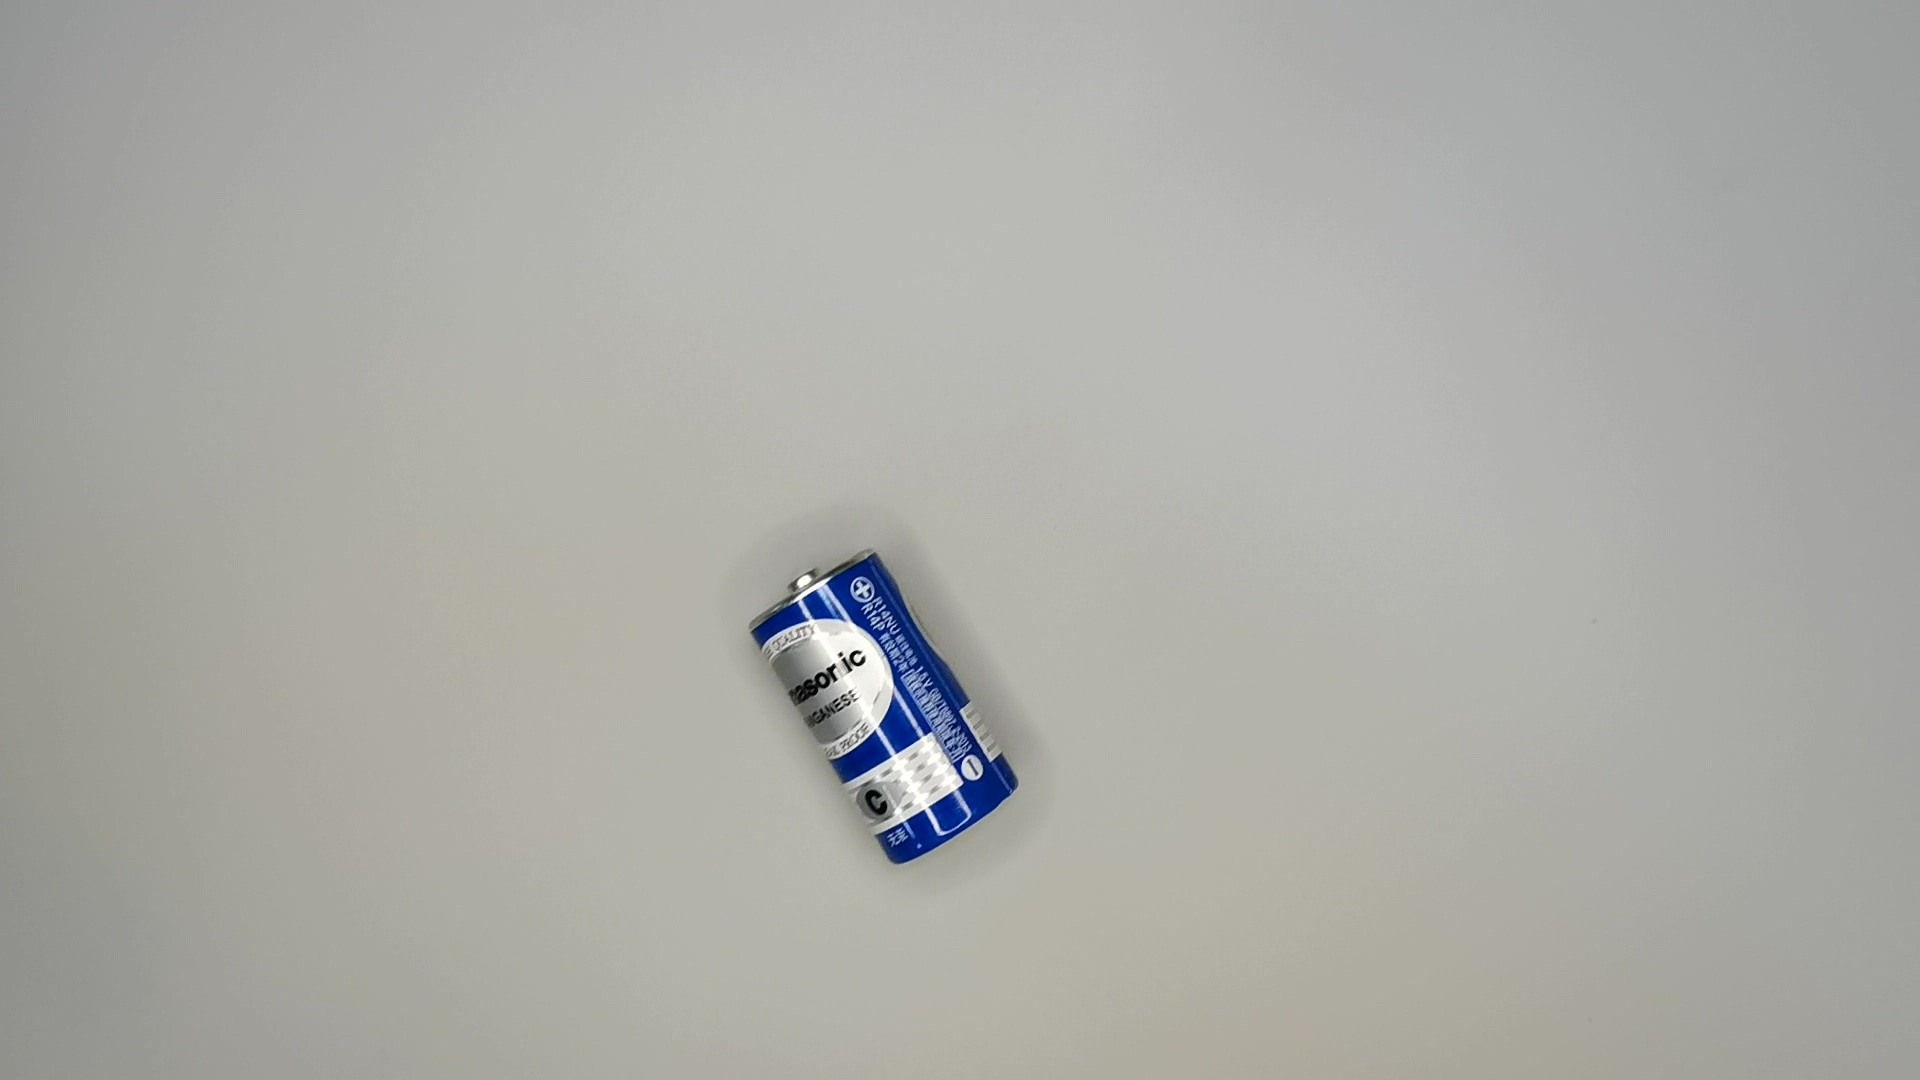battery: (741, 545, 1023, 872)
